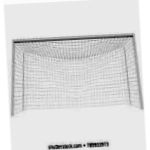goals: (9, 32, 144, 118)
